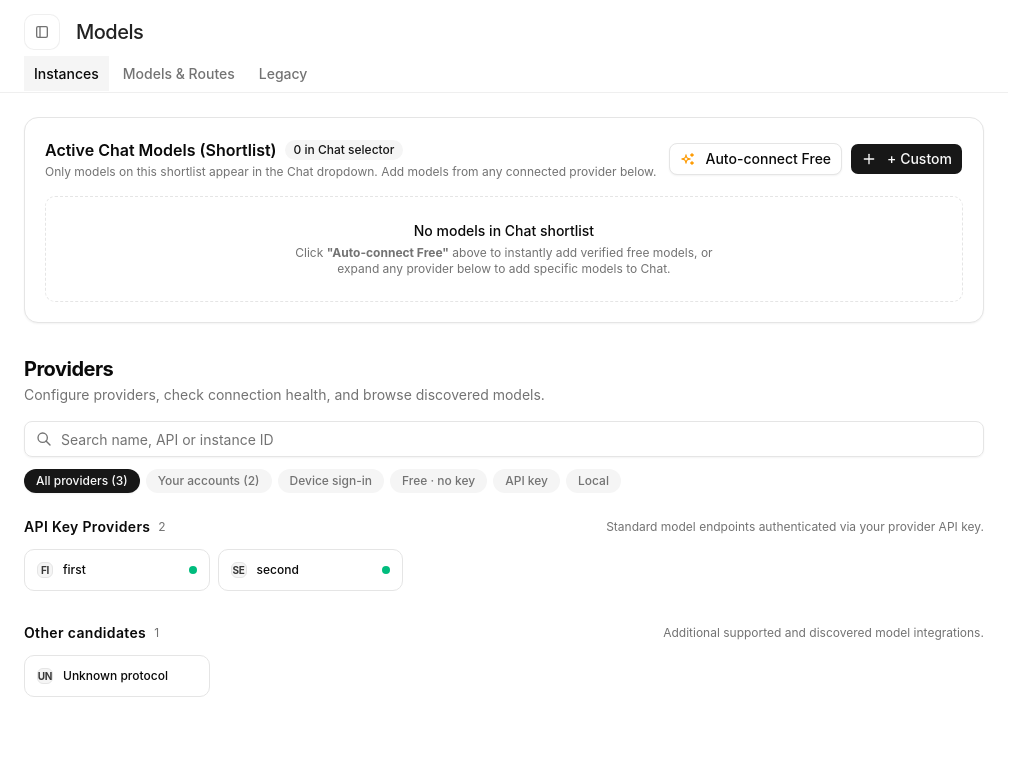
Test case: ModelsWorkspace › edits route order using only backend-provided targets
Step 1. Click the tab "Models & Routes" → (179,74), box [113,56,245,92]
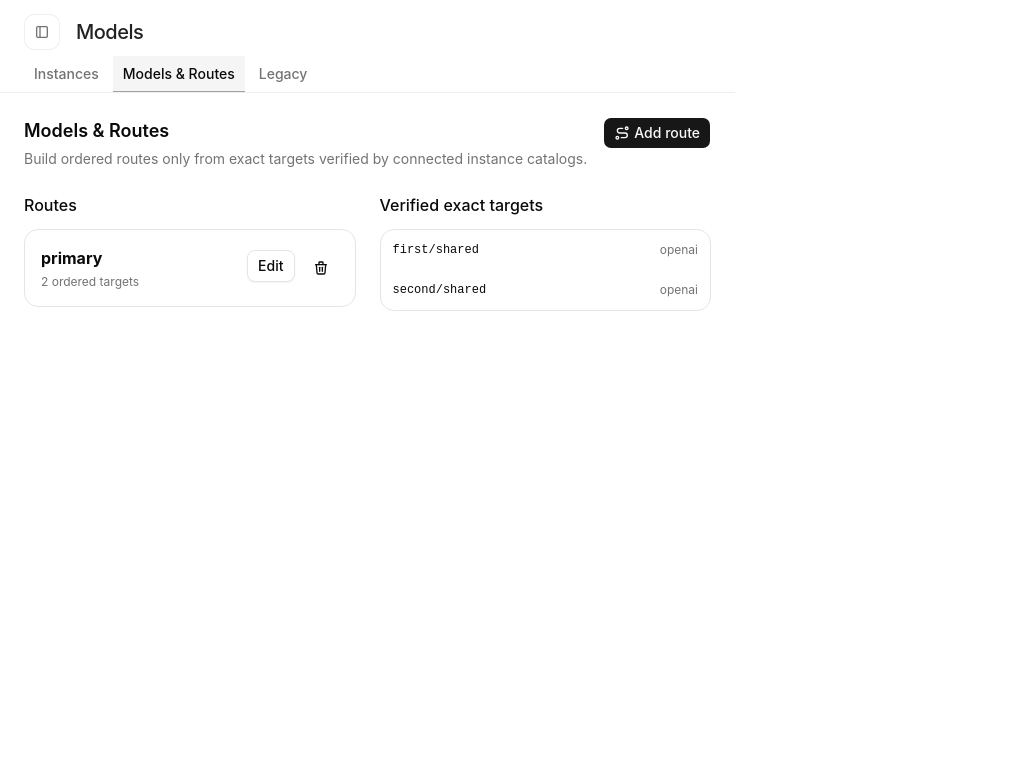
Step 2. Click the button "Edit" → (271,266), box [247,250,294,282]
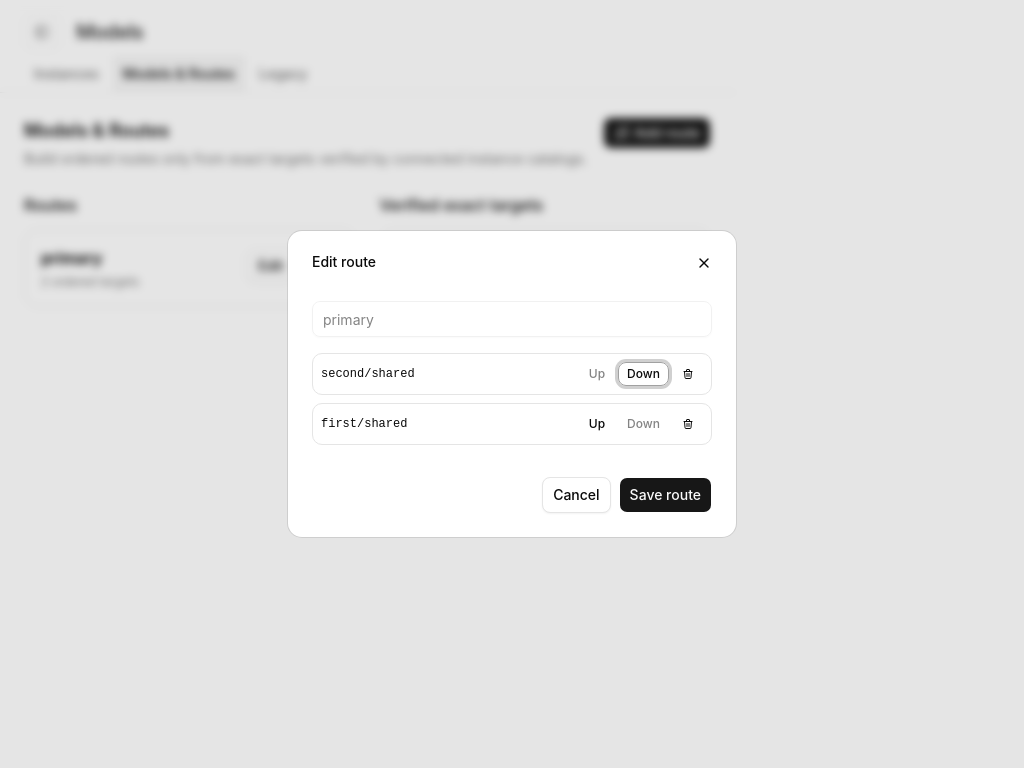
Expected: the heading "Edit route" is shown, [312,253,376,270]
